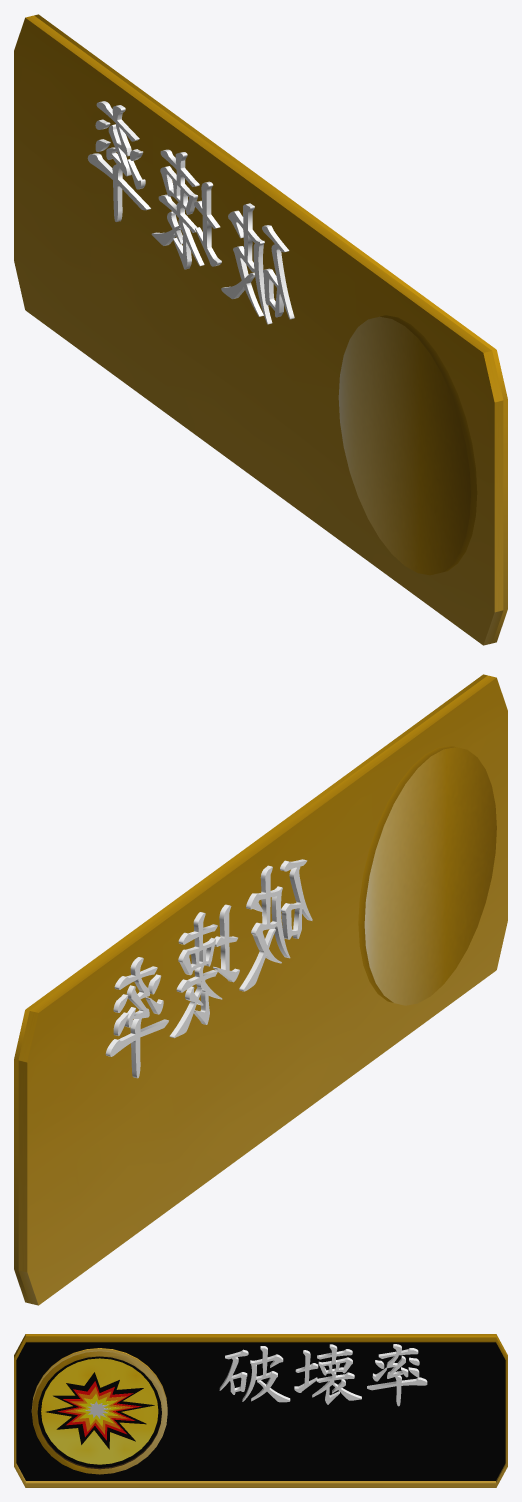
The picture shows the model from 3 angles, top to bottom: view 1: azimuth 30°, elevation 25°; view 2: azimuth 150°, elevation 25°; view 3: azimuth 270°, elevation 25°; orthographic projection. The views are drawn at different scales.
Parts seen in each view (by area): view 1: Cube.002, 円柱.015, テキスト.007; view 2: Cube.002, 円柱.015, テキスト.007; view 3: Cube.002, 円柱.015, テキスト.007.
Boxes of the visible parts, x1=… form: Cube.002: x1=14, y1=14, x2=507, y2=645; 円柱.015: x1=338, y1=315, x2=477, y2=575; テキスト.007: x1=87, y1=101, x2=294, y2=324; Cube.002: x1=14, y1=674, x2=507, y2=1305; 円柱.015: x1=358, y1=745, x2=496, y2=1005; テキスト.007: x1=105, y1=859, x2=312, y2=1078; Cube.002: x1=14, y1=1334, x2=507, y2=1487; 円柱.015: x1=31, y1=1348, x2=167, y2=1474; テキスト.007: x1=219, y1=1344, x2=427, y2=1406.
Bounding box in the file's own units: 0.2763 × 2.89 × 8.6.
Materials: 3 (3 with a texture image).
